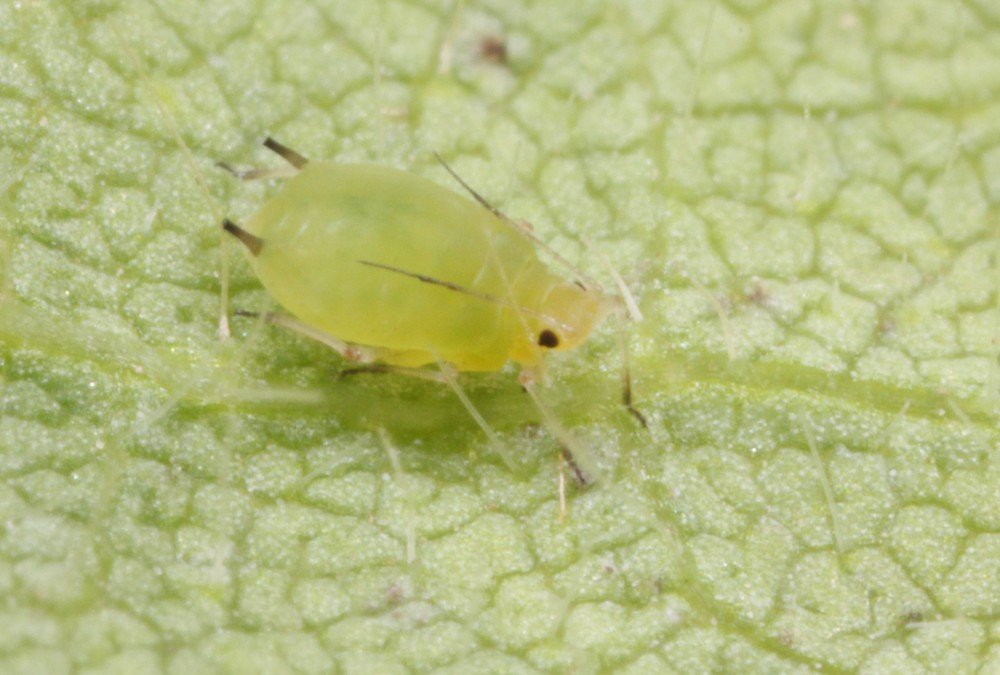Pulgon: (192, 122, 647, 455)
